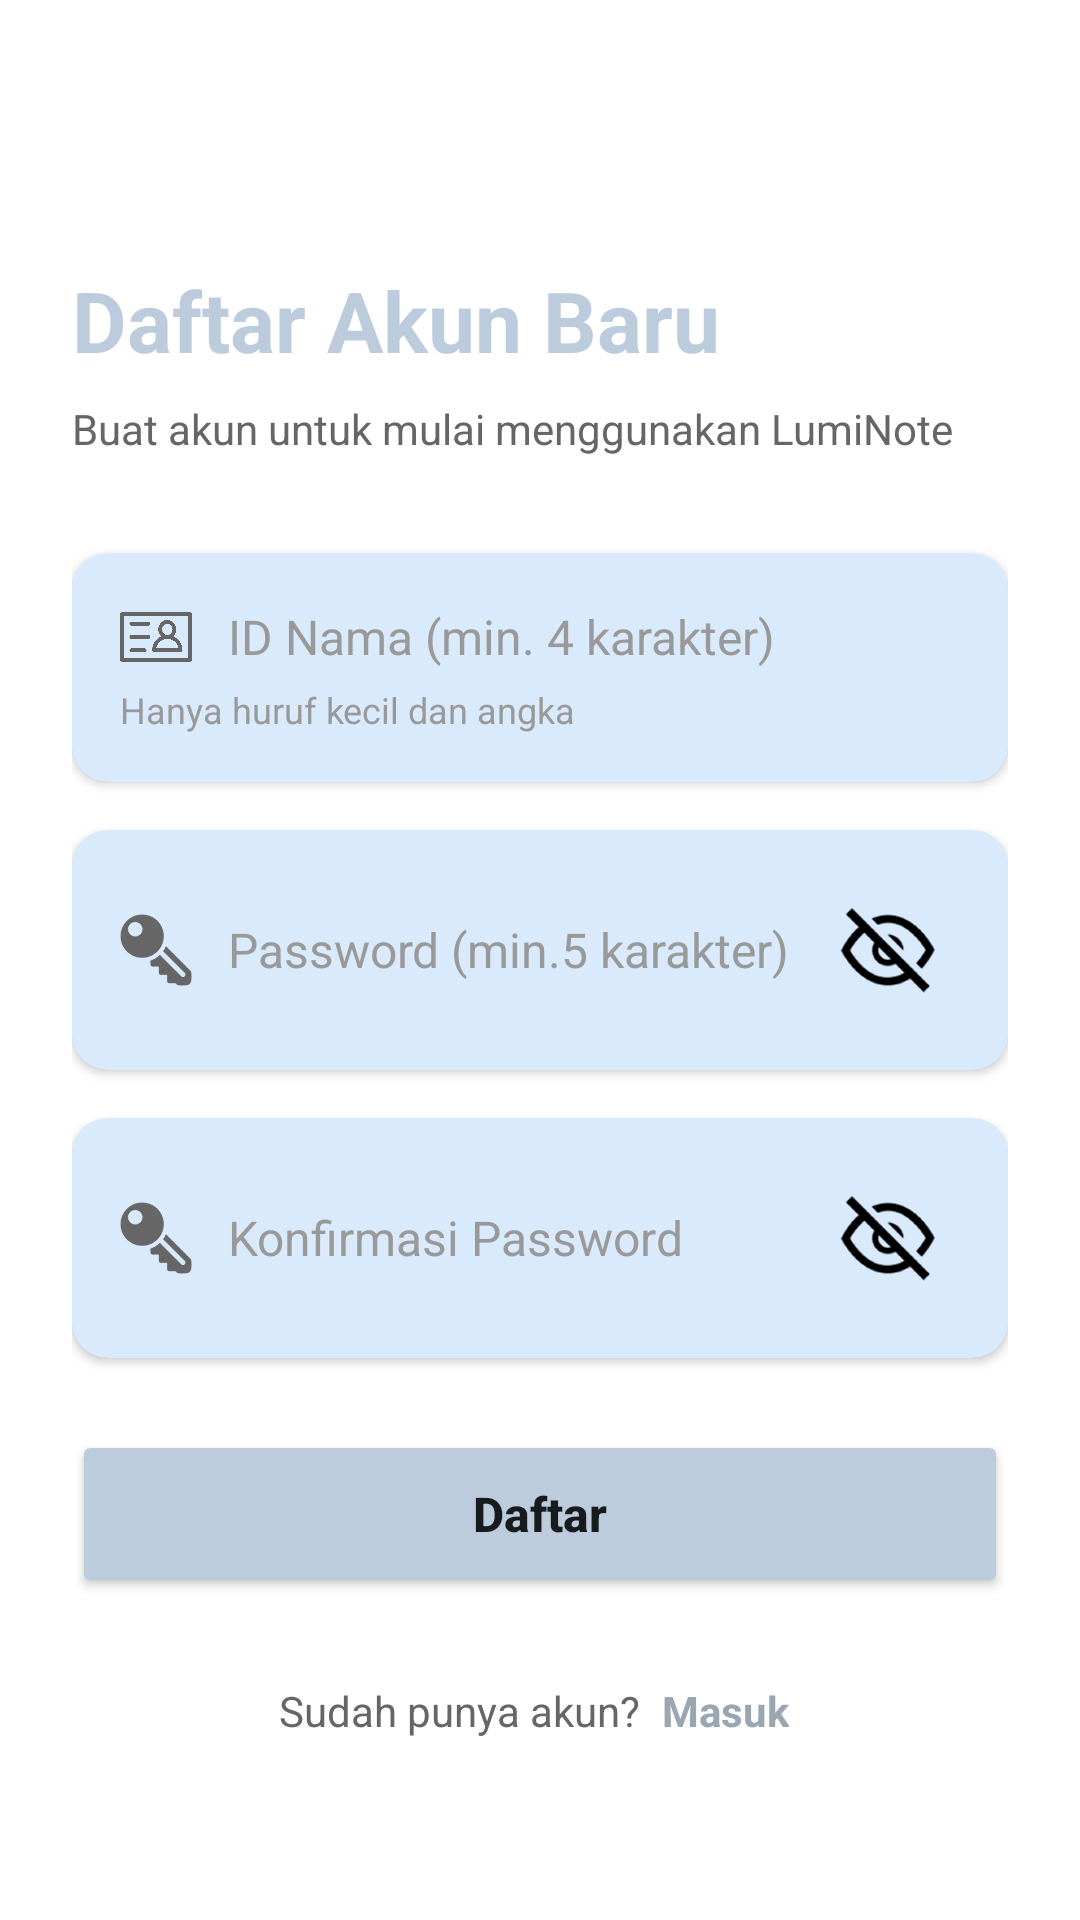

Where icons sit on this 1080×1920 app screen, as bbox(x1, y1, x2, y2):
Icon Confirm Password: bbox(120, 1202, 192, 1274)
Toggle Confirm Password: bbox(841, 1196, 935, 1281)
Toggle Password: bbox(841, 908, 935, 993)
